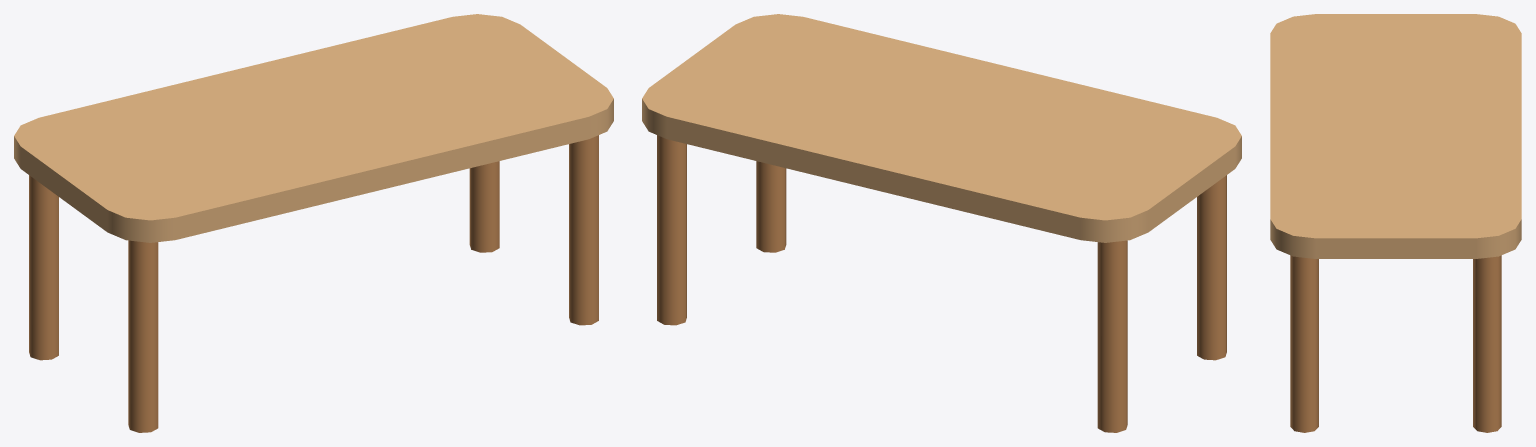
The model's file is table.glb.
The picture shows the model from 3 angles, left to right: view 1: azimuth 30°, elevation 25°; view 2: azimuth 150°, elevation 25°; view 3: azimuth 270°, elevation 25°; orthographic projection. The views are drawn at different scales.
Parts seen in each view (by area): view 1: table; view 2: table; view 3: table.
Boxes of the visible parts, x1,y1,x2,y2 form: table: (14, 14, 613, 432); table: (642, 14, 1241, 432); table: (1270, 14, 1521, 432).
Size of the model in its own units: 1.86 by 0.78 by 0.88.
